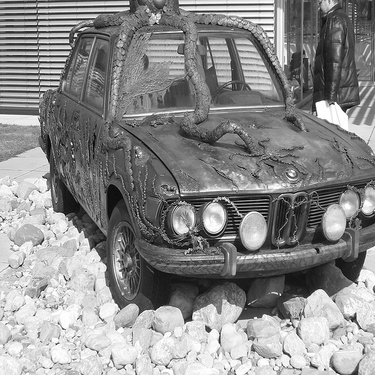car: (29, 5, 369, 311)
